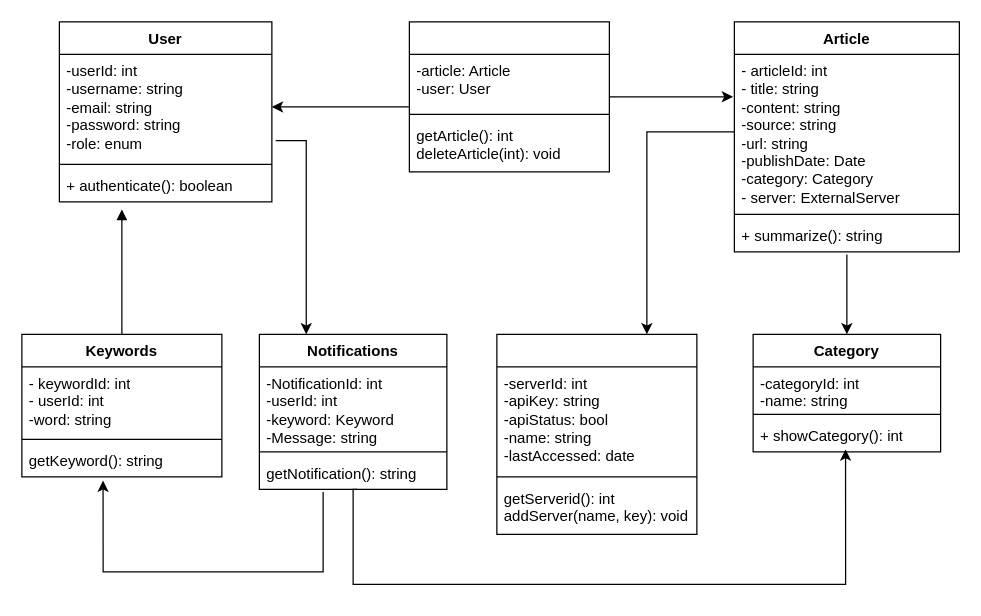
Some shapes in this 981 by 616 pixel diagram are drawn without their labels. The shapes that lost their labels are listed below. From the top down, each one's box as (x1, y1, x2, y2) in pixels, then its label:
(408, 21, 609, 172): SavedArticles
(496, 333, 697, 534): ExternalServers
